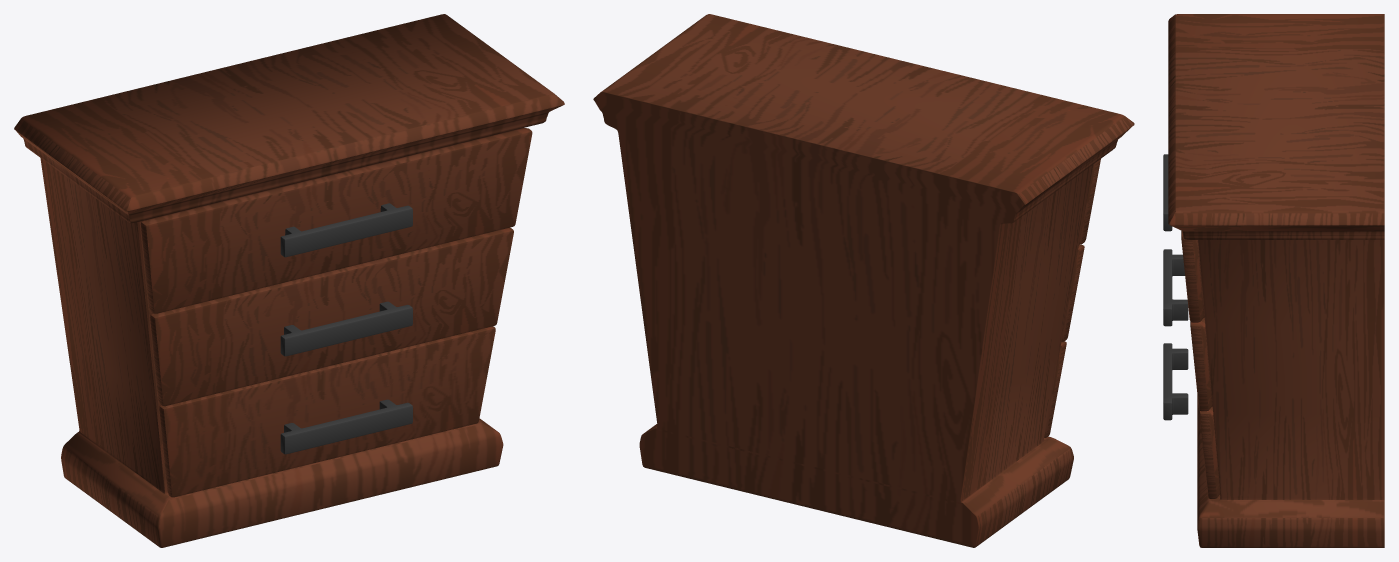
The model's file is ChestOfDrawers.fbx.
3 renders of one model, left to right at view 1: azimuth 30°, elevation 25°; view 2: azimuth 150°, elevation 25°; view 3: azimuth 270°, elevation 25°, orthographic. The views are drawn at different scales.
Visible parts, largest first — view 1: Drawer_Frame, Drawer_Top, Drawer_Middle, Drawer_Bottom, Handle_M, Handle_B, Handle_T; view 2: Drawer_Frame; view 3: Drawer_Frame, Handle_B, Handle_M, Drawer_Middle, Drawer_Top, Drawer_Bottom, Handle_T.
Boxes of the visible parts, bbox=[...] form: Drawer_Frame: bbox=[14, 14, 564, 547]; Drawer_Top: bbox=[141, 128, 532, 313]; Drawer_Middle: bbox=[150, 227, 513, 406]; Drawer_Bottom: bbox=[159, 326, 495, 497]; Handle_M: bbox=[280, 301, 412, 356]; Handle_B: bbox=[280, 399, 412, 454]; Handle_T: bbox=[280, 203, 412, 257]; Drawer_Frame: bbox=[593, 14, 1134, 547]; Drawer_Frame: bbox=[1168, 14, 1384, 547]; Handle_B: bbox=[1163, 343, 1188, 420]; Handle_M: bbox=[1163, 249, 1188, 326]; Drawer_Middle: bbox=[1190, 317, 1212, 411]; Drawer_Top: bbox=[1181, 230, 1204, 322]; Drawer_Bottom: bbox=[1199, 406, 1220, 498]; Handle_T: bbox=[1163, 154, 1172, 231].
Bounding box in the file's own units: 104 × 84.17 × 47.29.
Materials: 2 (1 with a texture image).
